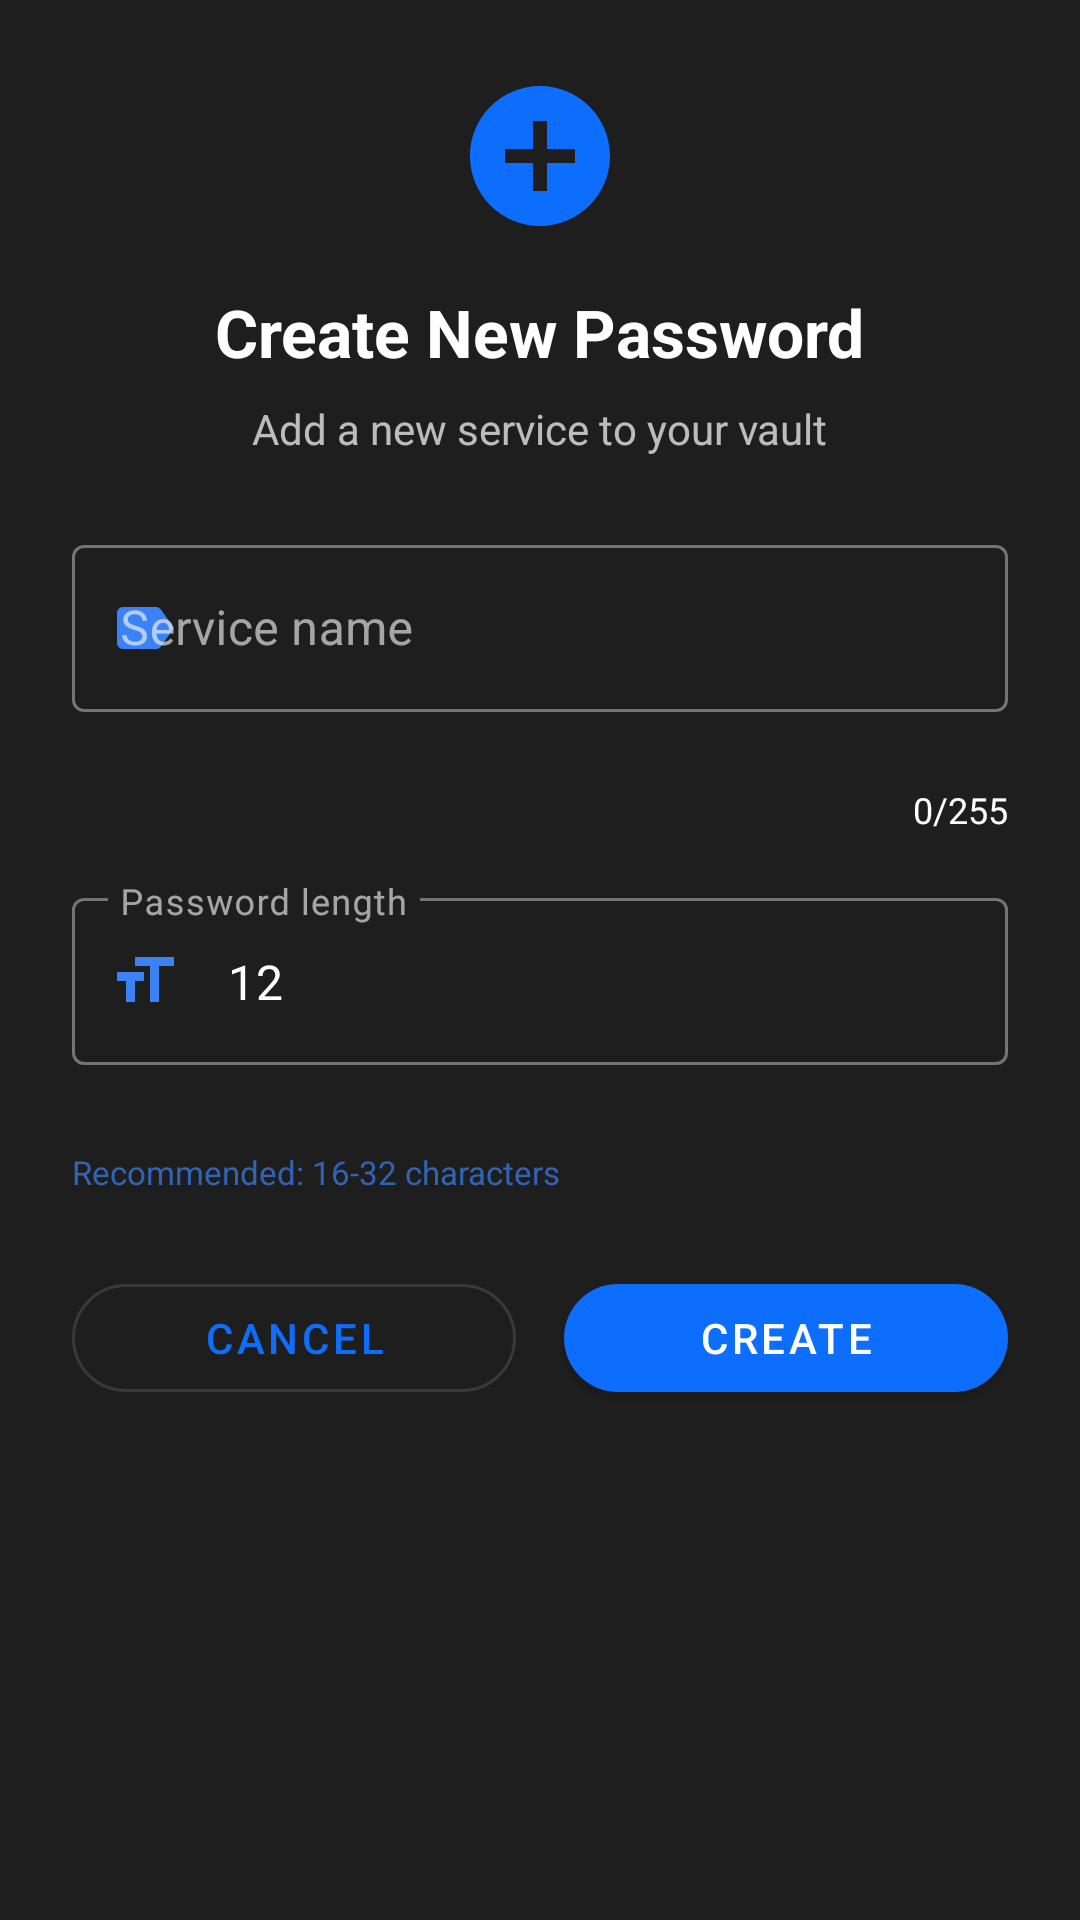

Screen size 1080x1920. Icon name, then its center in pixels as point (x, y):
add circle: point (540, 156)
